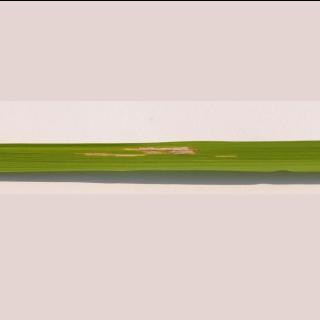Hawar-Daun: (86, 129, 244, 170)
